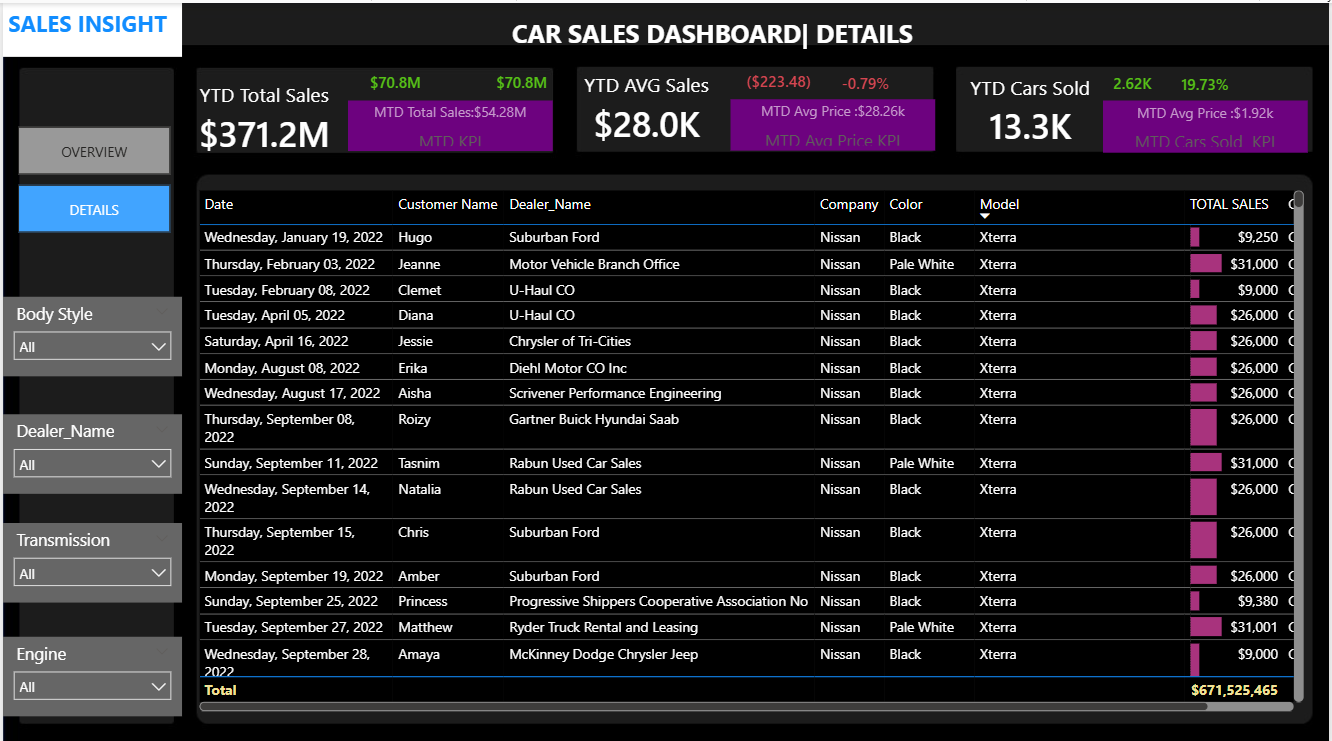

Layout of this report page (visuals, bound fields, positions):
{"tool":"powerbi","page":{"name":"DETAILS","canvas":[1280,720],"ordinal":1},"visuals":[{"type":"card","title":" YTD Total Sales","fields":{"Values":["car_data.YTD Total Sales"]},"box":[170.9,76.5,162,76.5],"z":0},{"type":"card","fields":{"Values":["calendar table.Sales Difference"]},"box":[311.6,51.9,135.6,53.4],"z":1000},{"type":"card","fields":{"Values":["calendar table.Sales Difference"]},"box":[432.8,51.9,135.6,53.4],"z":2000},{"type":"card","fields":{"Values":["car_data.MTD KPI"]},"box":[333.3,93.8,197.7,49.1],"z":3000},{"type":"card","title":" YTD AVG Sales","fields":{"Values":["car_data.YTD Avg Price"]},"box":[541,66.4,161.6,76.5],"z":4000},{"type":"card","fields":{"Values":["car_data.YOY Avg Price Growth"]},"box":[764.3,54.5,135.5,51.5],"z":5000},{"type":"card","fields":{"Values":["car_data.MTD Avg Price KPI"]},"box":[702.4,93.1,197.8,49.4],"z":6000},{"type":"card","title":" YTD Cars Sold","fields":{"Values":["car_data.YTD Cars Sold"]},"box":[910.4,68.3,161.4,75.6],"z":7000},{"type":"card","fields":{"Values":["car_data.Avg Price Diff"]},"box":[680.4,51.5,137,51.5],"z":8000},{"type":"card","fields":{"Values":["car_data.Cars Sold Diff"]},"box":[1022,54.5,137,51.5],"z":9000},{"type":"card","fields":{"Values":["car_data.yoy Car Sold Growth"]},"box":[1091.2,56,137,51.5],"z":10000},{"type":"card","fields":{"Values":["car_data.MTD Cars Sold  KPI"]},"box":[1061.8,94.2,197.3,50.1],"z":11000},{"type":"textbox","box":[485.9,8.9,432.5,58.7],"z":12000},{"type":"slicer","fields":{"Values":["car_data.Body Style"]},"box":[0,283,172.6,76.5],"z":13000},{"type":"slicer","fields":{"Values":["car_data.Dealer_Name"]},"box":[0,396.9,172.6,76.5],"z":14000},{"type":"slicer","fields":{"Values":["car_data.Transmission"]},"box":[0,501.9,172.6,76.5],"z":15000},{"type":"slicer","fields":{"Values":["car_data.Engine"]},"box":[0,612.2,172.6,76.5],"z":16000},{"type":"tableEx","fields":{"Values":["car_data.Date","car_data.Customer Name","car_data.Dealer_Name","car_data.Company","car_data.Color","car_data.Model","car_data.Price ($)","car_data.Car_id"]},"box":[183.3,176.2,1076.8,512.6],"z":17000},{"type":"textbox","box":[0,0,172.6,51.6],"z":18000},{"type":"pageNavigator","box":[14.2,119.2,147.7,103.2],"z":19000}]}

Visuals, with their boxes on the page's 1280x720 design canvas (x1, y1, x2, y2). These are canvas units, not pixel positions in the 1332x741 screenshot, which may show the page scaled, cropped or inside an application window:
" YTD Total Sales" card: <region>171, 76, 333, 153</region>
card - calendar table.Sales Difference: <region>312, 52, 447, 105</region>
card - calendar table.Sales Difference: <region>433, 52, 568, 105</region>
card - car_data.MTD KPI: <region>333, 94, 531, 143</region>
" YTD AVG Sales" card: <region>541, 66, 703, 143</region>
card - car_data.YOY Avg Price Growth: <region>764, 54, 900, 106</region>
card - car_data.MTD Avg Price KPI: <region>702, 93, 900, 142</region>
" YTD Cars Sold" card: <region>910, 68, 1072, 144</region>
card - car_data.Avg Price Diff: <region>680, 52, 817, 103</region>
card - car_data.Cars Sold Diff: <region>1022, 54, 1159, 106</region>
card - car_data.yoy Car Sold Growth: <region>1091, 56, 1228, 108</region>
card - car_data.MTD Cars Sold  KPI: <region>1062, 94, 1259, 144</region>
textbox: <region>486, 9, 918, 68</region>
slicer - car_data.Body Style: <region>0, 283, 173, 360</region>
slicer - car_data.Dealer_Name: <region>0, 397, 173, 473</region>
slicer - car_data.Transmission: <region>0, 502, 173, 578</region>
slicer - car_data.Engine: <region>0, 612, 173, 689</region>
tableEx - car_data.Date x car_data.Customer Name: <region>183, 176, 1260, 689</region>
textbox: <region>0, 0, 173, 52</region>
pageNavigator: <region>14, 119, 162, 222</region>
